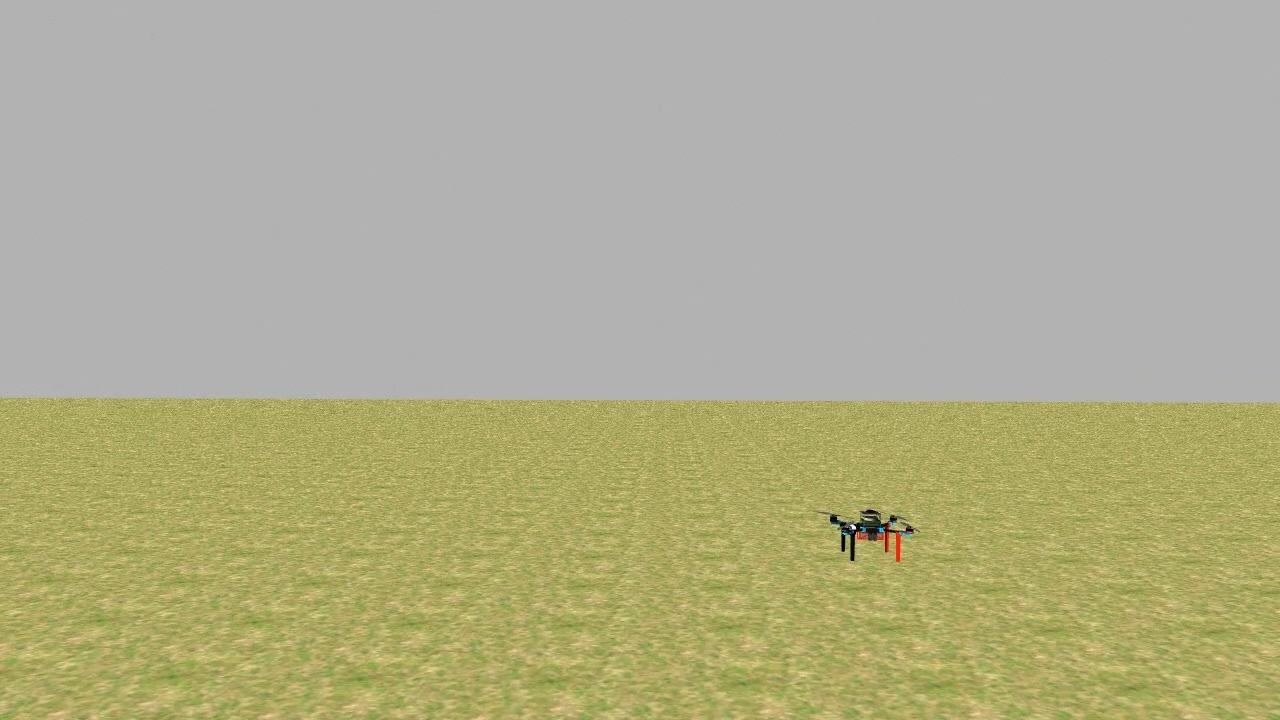UAV: (818, 496, 924, 566)
